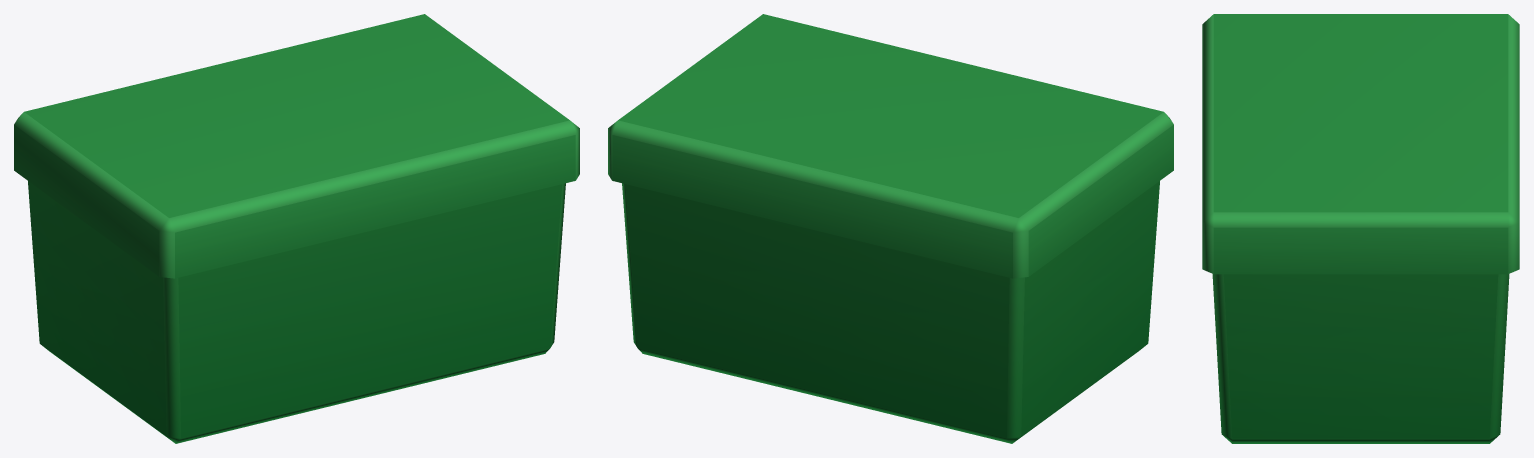
File: giftbox_023.fbx
The picture shows the model from 3 angles, left to right: view 1: azimuth 30°, elevation 25°; view 2: azimuth 150°, elevation 25°; view 3: azimuth 270°, elevation 25°; orthographic projection.
Parts seen in each view (by area): view 1: giftbox_023; view 2: giftbox_023; view 3: giftbox_023.
Boxes of the visible parts, x1,y1,x2,y2 form: giftbox_023: (14, 14, 579, 443); giftbox_023: (608, 14, 1173, 443); giftbox_023: (1202, 14, 1519, 443).
Size of the model in its own units: 394 by 254 by 212.
